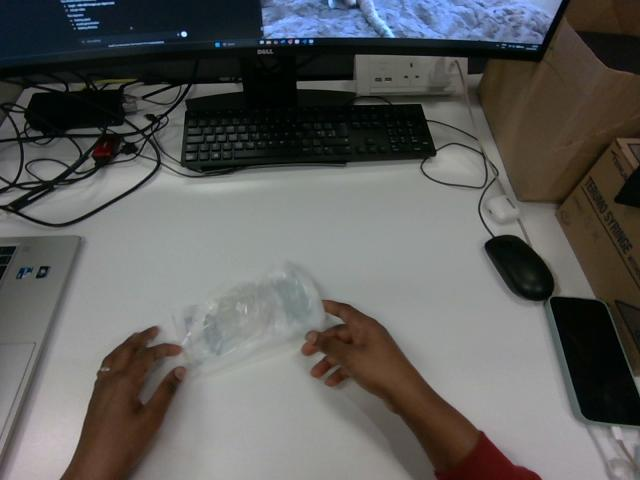gallipot: (174, 264, 324, 372)
